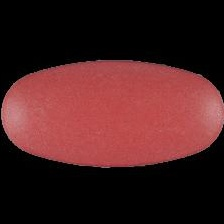45865-573: (0, 0, 224, 224)
